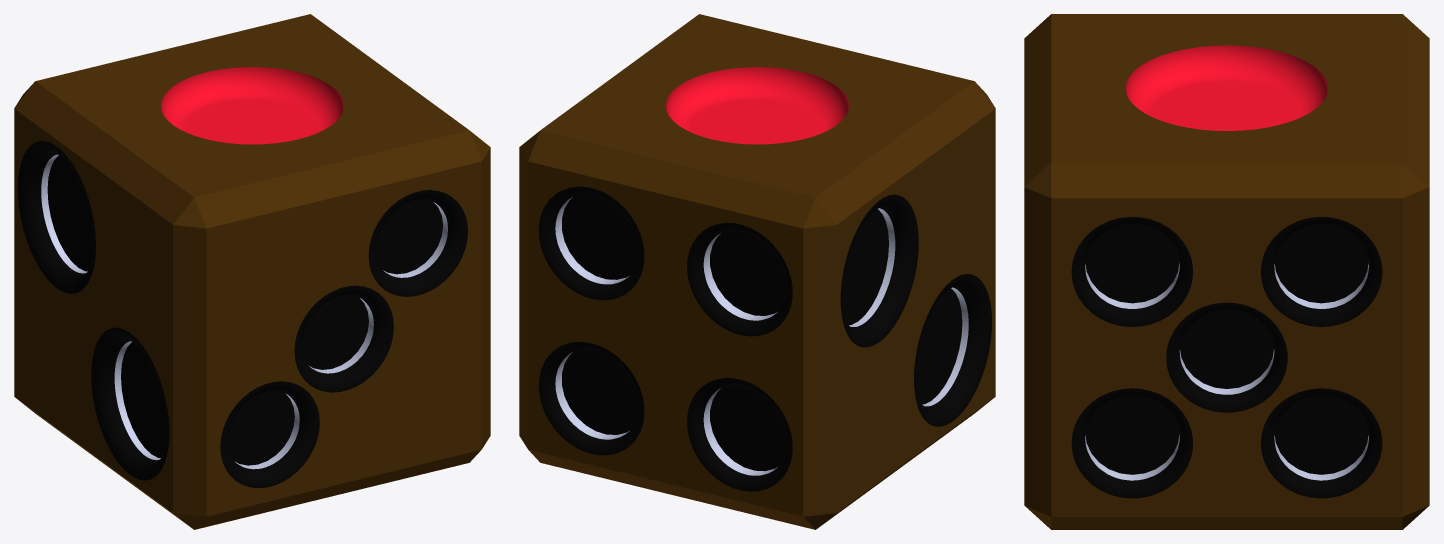
Rendered from saikoro.glb.
3 views of the same model, side by side, from view 1: azimuth 30°, elevation 25°; view 2: azimuth 150°, elevation 25°; view 3: azimuth 270°, elevation 25° (orthographic). The views are drawn at different scales.
Parts seen in each view (by area): view 1: Tokue_saikoro; view 2: Tokue_saikoro; view 3: Tokue_saikoro.
Part boxes in pixels (x1=…): Tokue_saikoro: x1=14, y1=14, x2=490, y2=529; Tokue_saikoro: x1=519, y1=14, x2=995, y2=529; Tokue_saikoro: x1=1024, y1=14, x2=1429, y2=529.
Size of the model in its own units: 0.03 by 0.03 by 0.03.
